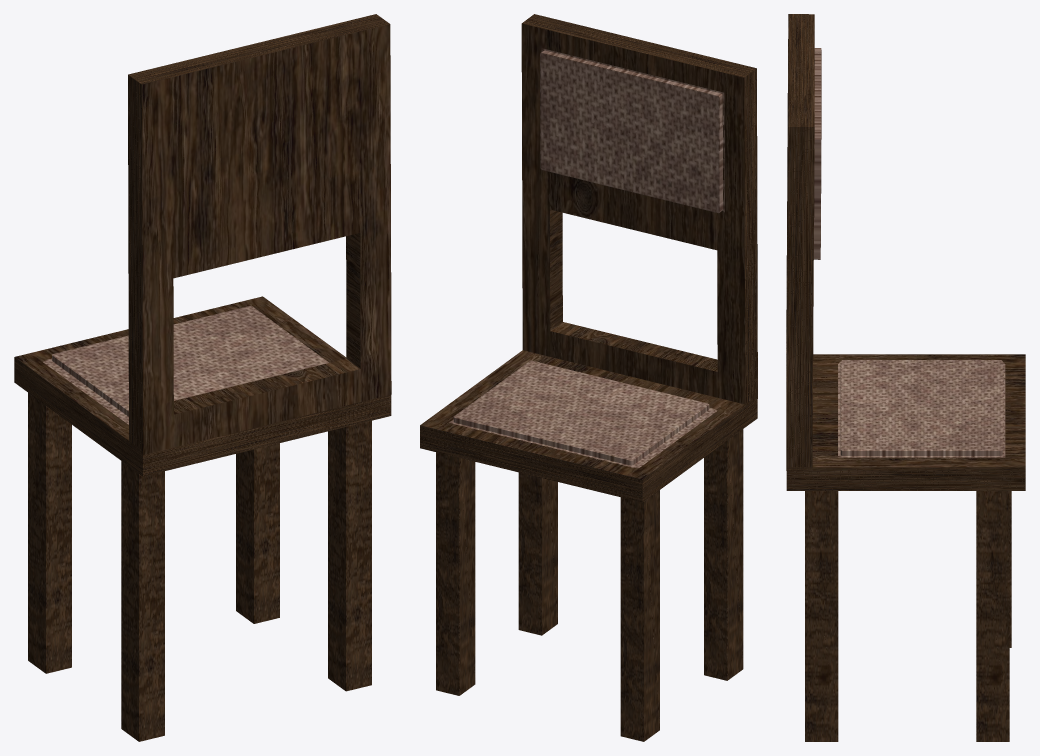
Rendered from Cadeira.fbx.
The picture shows the model from 3 angles, left to right: view 1: azimuth 30°, elevation 25°; view 2: azimuth 150°, elevation 25°; view 3: azimuth 270°, elevation 25°; orthographic projection. The views are drawn at different scales.
Parts seen in each view (by area): view 1: Cube.010, Cube.005, Cube.011, Cube.007, Cube.008, Cube.006, Cube.009; view 2: Cube.010, Cube.012, Cube.011, Cube.005, Cube.006, Cube.009, Cube.007, Cube.008; view 3: Cube.011, Cube.005, Cube.010, Cube.008, Cube.009, Cube.012, Cube.006.
Boxes of the visible parts, bbox=[...] form: Cube.010: bbox=[128, 14, 391, 454]; Cube.005: bbox=[14, 296, 391, 476]; Cube.011: bbox=[43, 306, 328, 424]; Cube.007: bbox=[121, 461, 164, 741]; Cube.008: bbox=[328, 420, 371, 691]; Cube.006: bbox=[28, 393, 71, 673]; Cube.009: bbox=[236, 443, 279, 623]; Cube.010: bbox=[521, 14, 757, 404]; Cube.012: bbox=[540, 48, 724, 213]; Cube.011: bbox=[449, 360, 716, 467]; Cube.005: bbox=[420, 350, 757, 502]; Cube.006: bbox=[620, 490, 659, 741]; Cube.009: bbox=[436, 452, 475, 695]; Cube.007: bbox=[704, 429, 743, 680]; Cube.008: bbox=[518, 472, 557, 635]; Cube.011: bbox=[838, 360, 1005, 457]; Cube.005: bbox=[786, 354, 1025, 490]; Cube.010: bbox=[786, 14, 814, 470]; Cube.008: bbox=[805, 491, 838, 741]; Cube.009: bbox=[976, 491, 1009, 741]; Cube.012: bbox=[814, 48, 821, 259]; Cube.006: bbox=[1009, 491, 1011, 647].
Size of the model in its own units: 96.74 by 248 by 86.8.
Materials: 5 (5 with a texture image).
